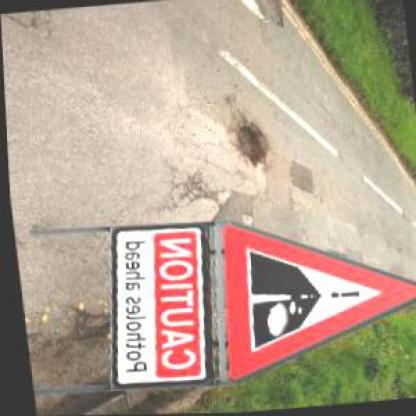pothole: (224, 115, 272, 169)
